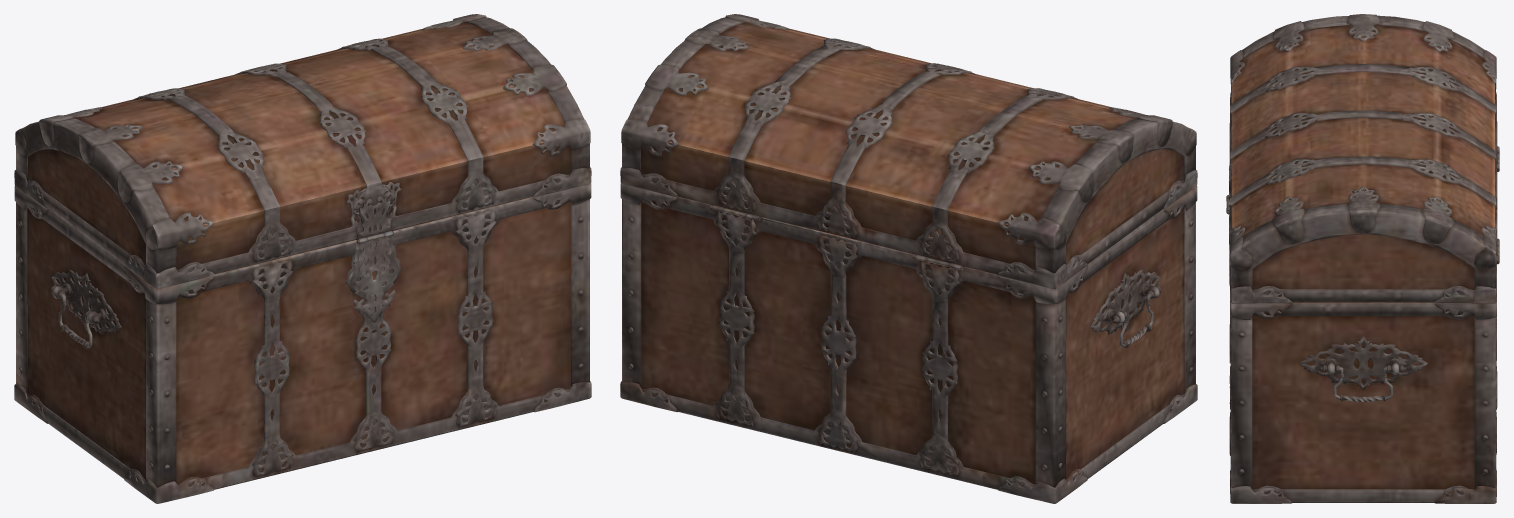
The model's file is cc0_chest.glb.
3 views of the same model, side by side, from view 1: azimuth 30°, elevation 25°; view 2: azimuth 150°, elevation 25°; view 3: azimuth 270°, elevation 25° (orthographic). The views are drawn at different scales.
Visible parts, largest first — view 1: treasure_chest_bottom; view 2: treasure_chest_bottom; view 3: treasure_chest_bottom.
Part boxes in pixels (box(x1,y1,x2,y2)): treasure_chest_bottom: box(14, 14, 591, 503); treasure_chest_bottom: box(620, 14, 1197, 503); treasure_chest_bottom: box(1226, 14, 1499, 503).
Bounding box in the file's own units: 0.9588 × 0.619 × 0.5227.
1 material, 1 textured.
